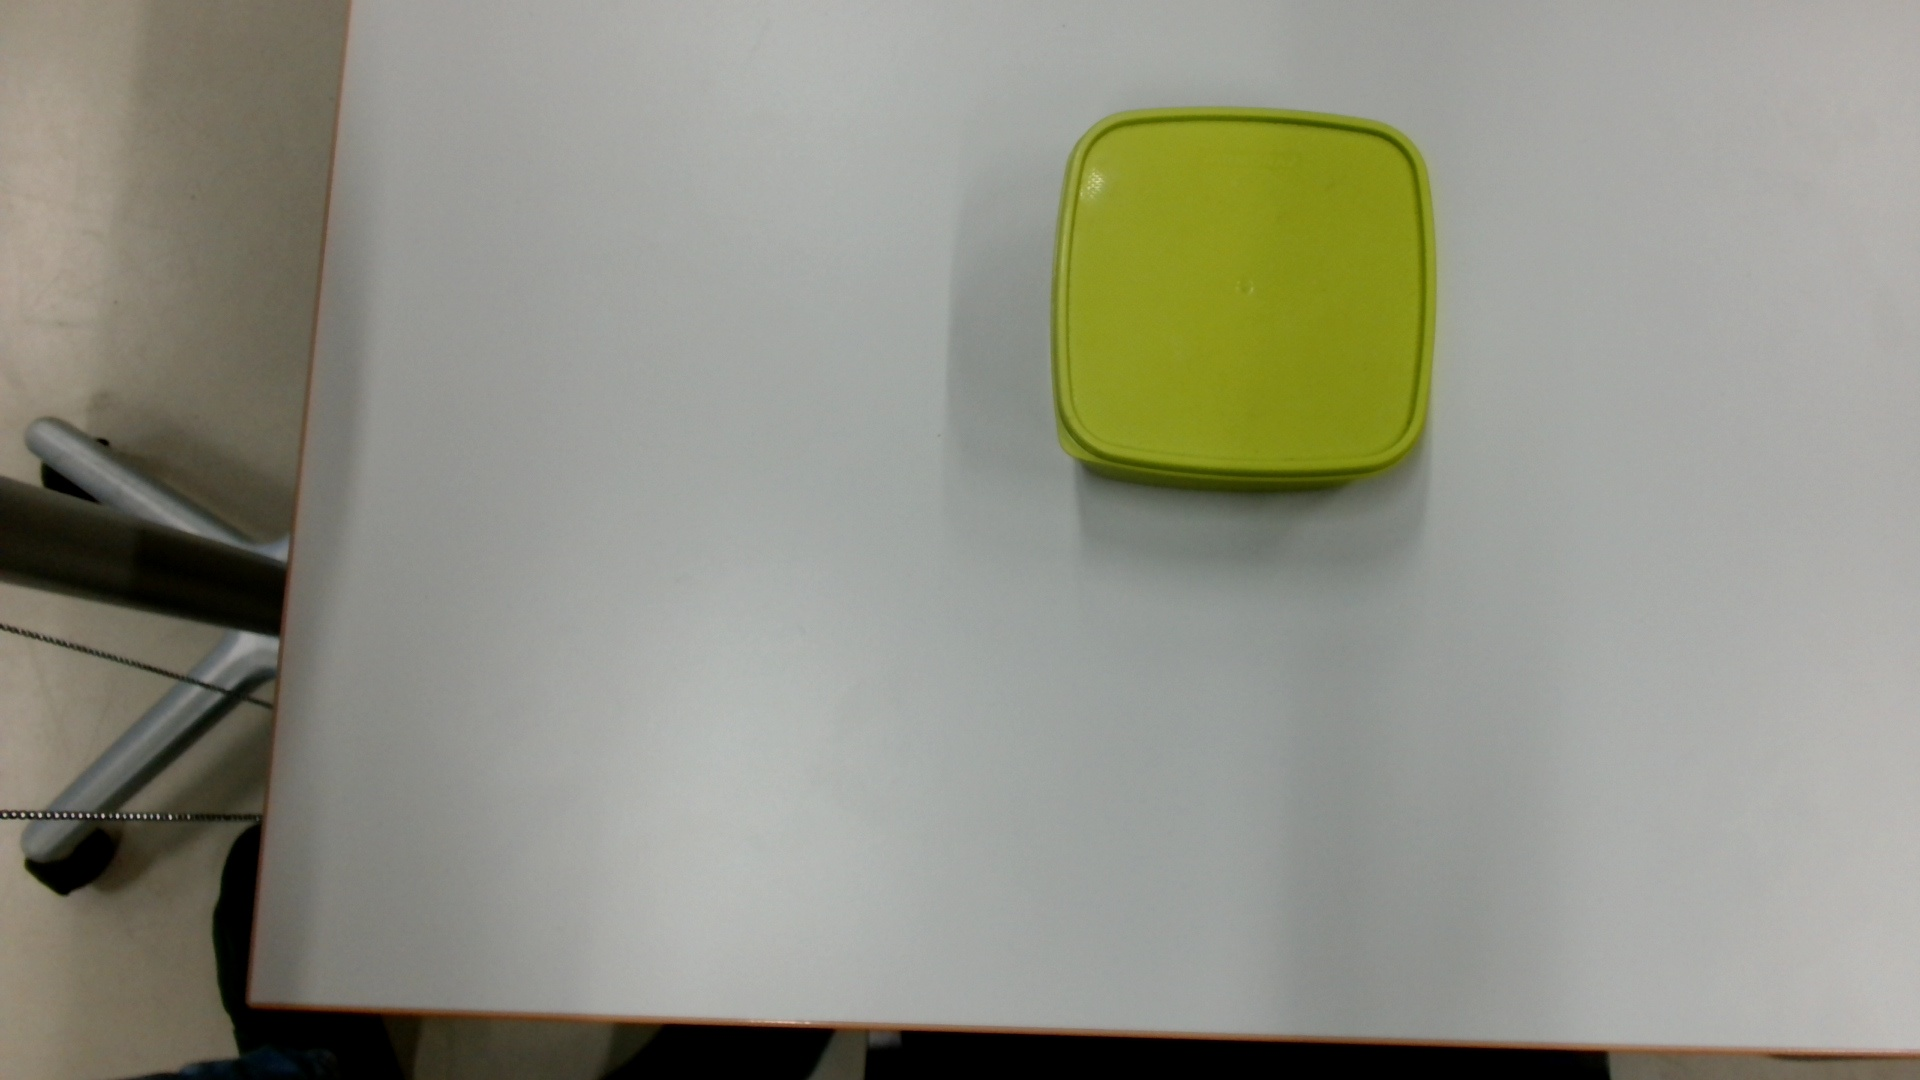Box: (1040, 99, 1445, 502)
